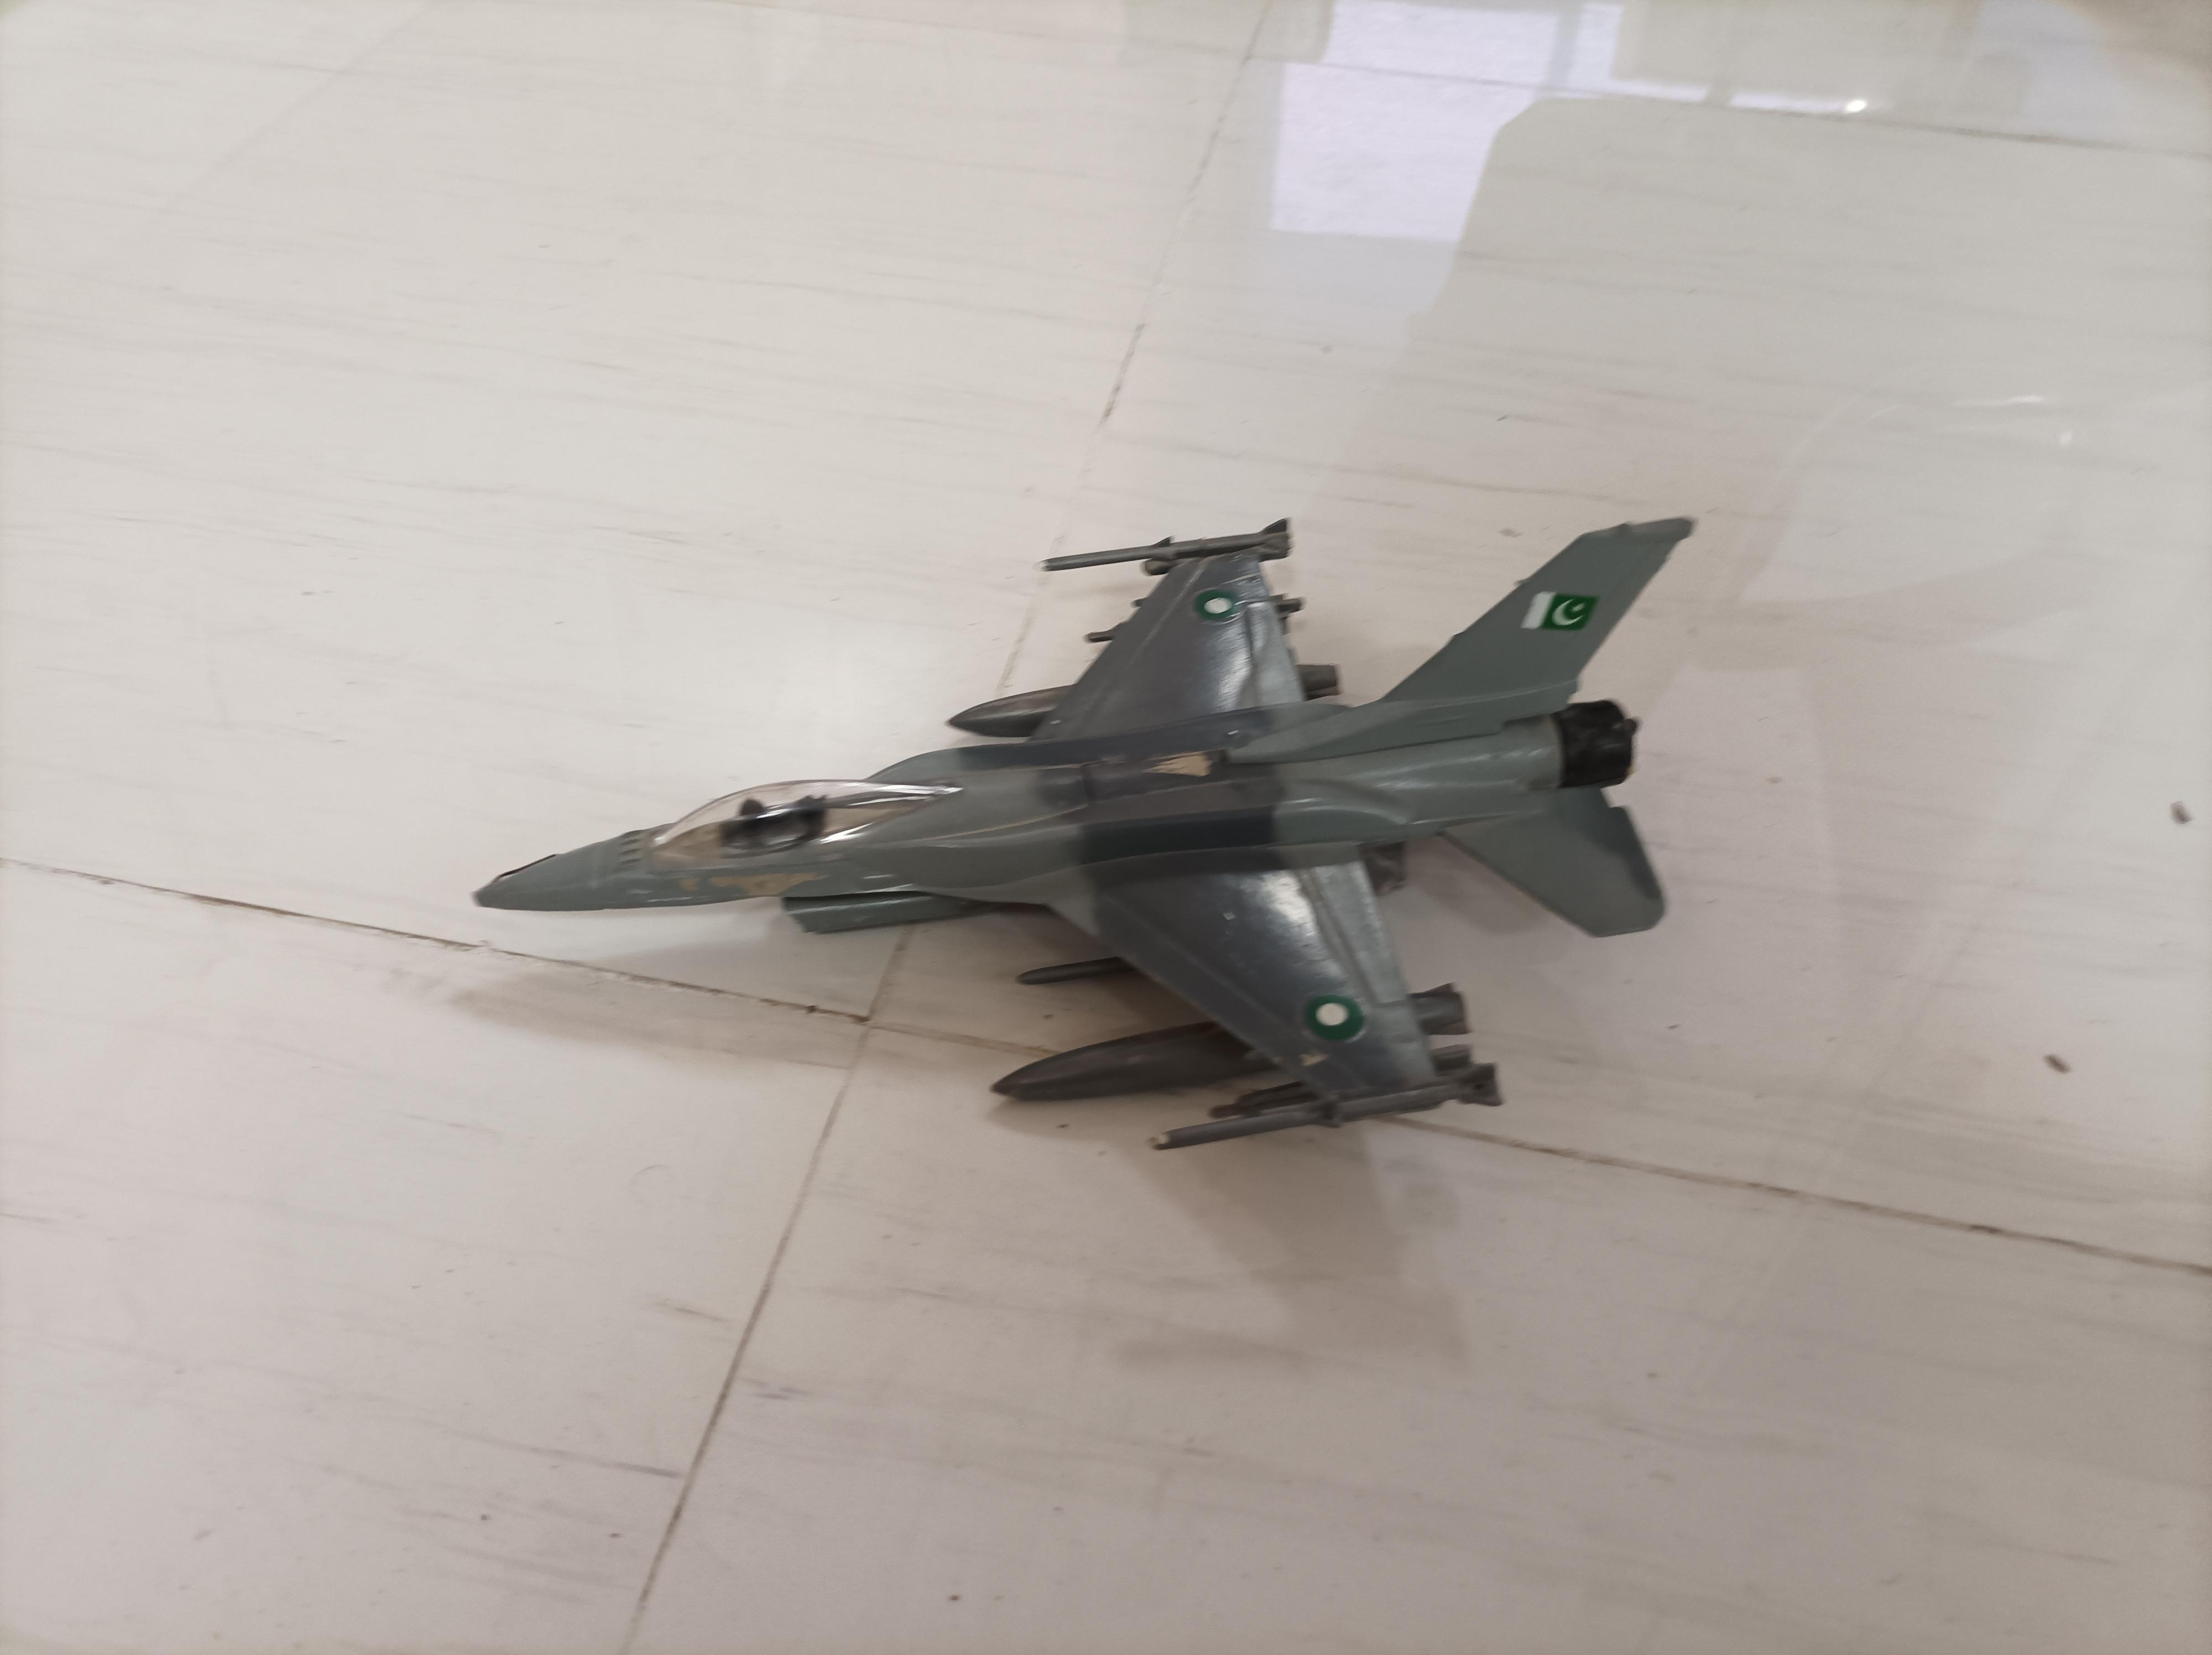Airplane: (459, 473, 1722, 1200)
